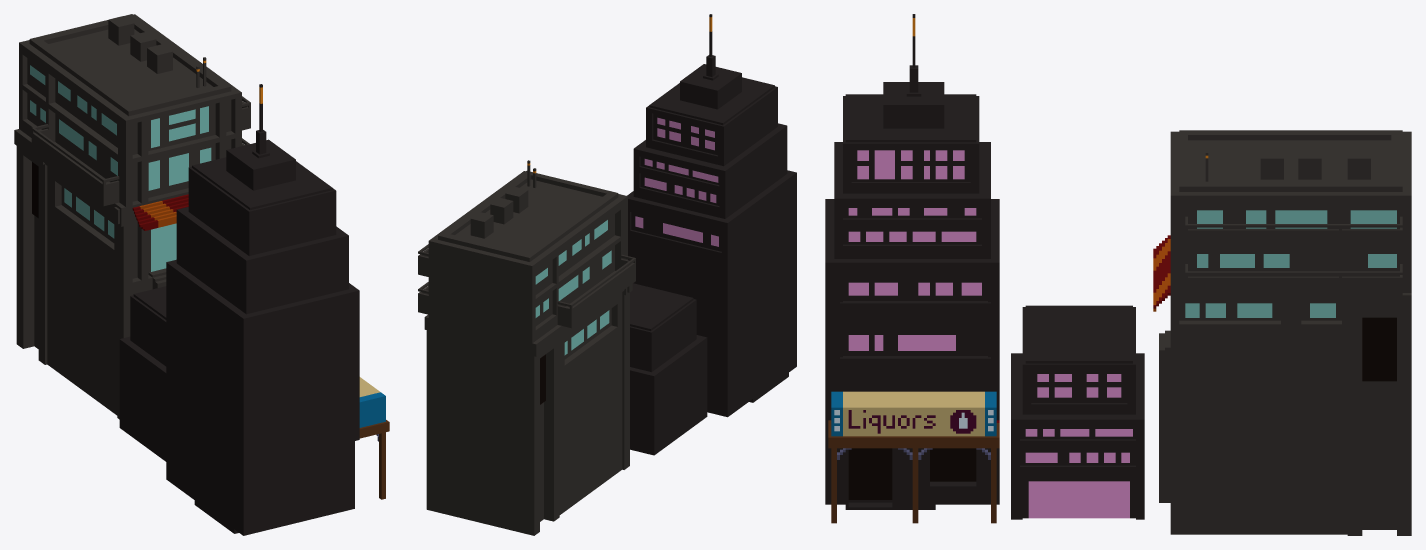
Rendered from SideBuilding3.obj.
The picture shows the model from 3 angles, left to right: view 1: azimuth 30°, elevation 25°; view 2: azimuth 150°, elevation 25°; view 3: azimuth 270°, elevation 25°; orthographic projection. The views are drawn at different scales.
Bounding box in the file's own units: 7.5 × 17.8 × 20.2.
1 material, 1 textured.
